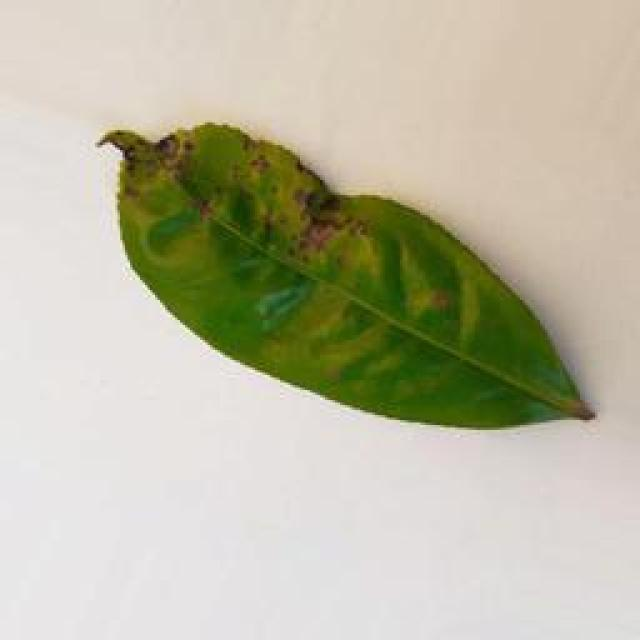Helopeltis: (87, 110, 602, 443)
